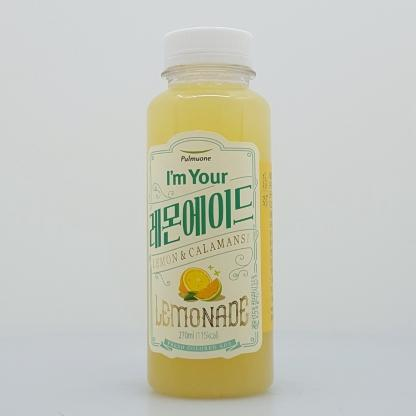----------------270ML: (146, 26, 274, 400)
